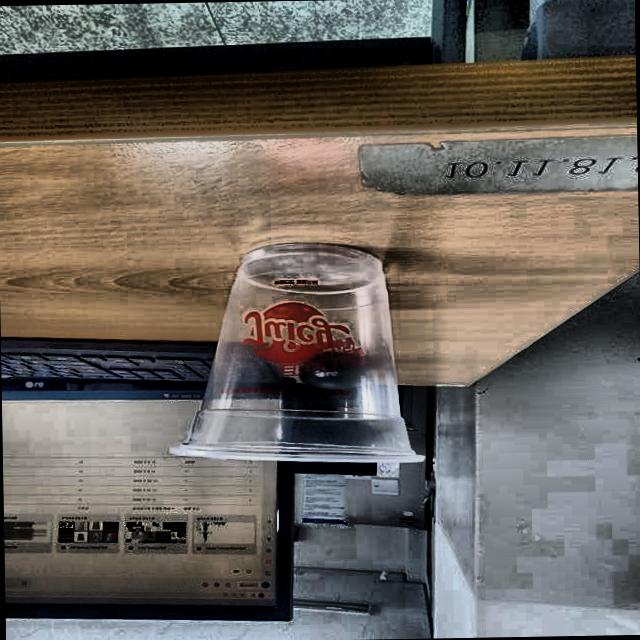plastic cup: (166, 242, 425, 469)
